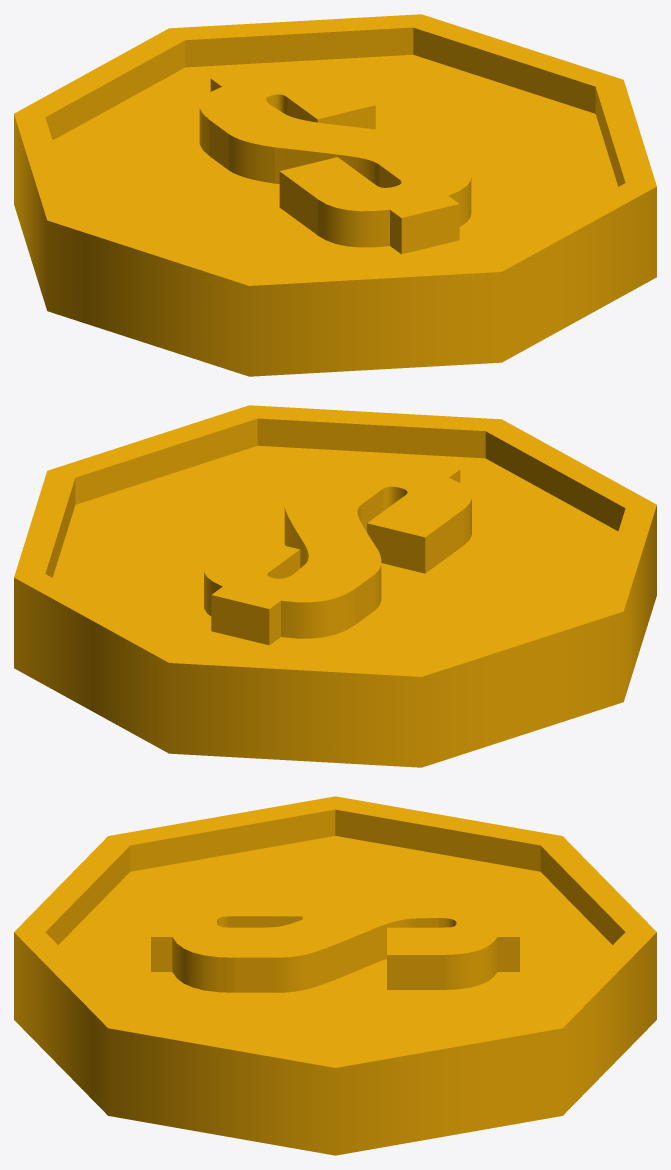
Rendered from coin.fbx.
3 views of the same model, one above another, from view 1: azimuth 30°, elevation 25°; view 2: azimuth 150°, elevation 25°; view 3: azimuth 270°, elevation 25° (orthographic). The views are drawn at different scales.
Parts seen in each view (by area): view 1: Coin_05; view 2: Coin_05; view 3: Coin_05.
Boxes of the visible parts, x1,y1,x2,y2 form: Coin_05: (14, 14, 656, 376); Coin_05: (14, 405, 656, 767); Coin_05: (14, 796, 656, 1155).
Bounding box in the file's own units: 66.49 × 12 × 66.49.
